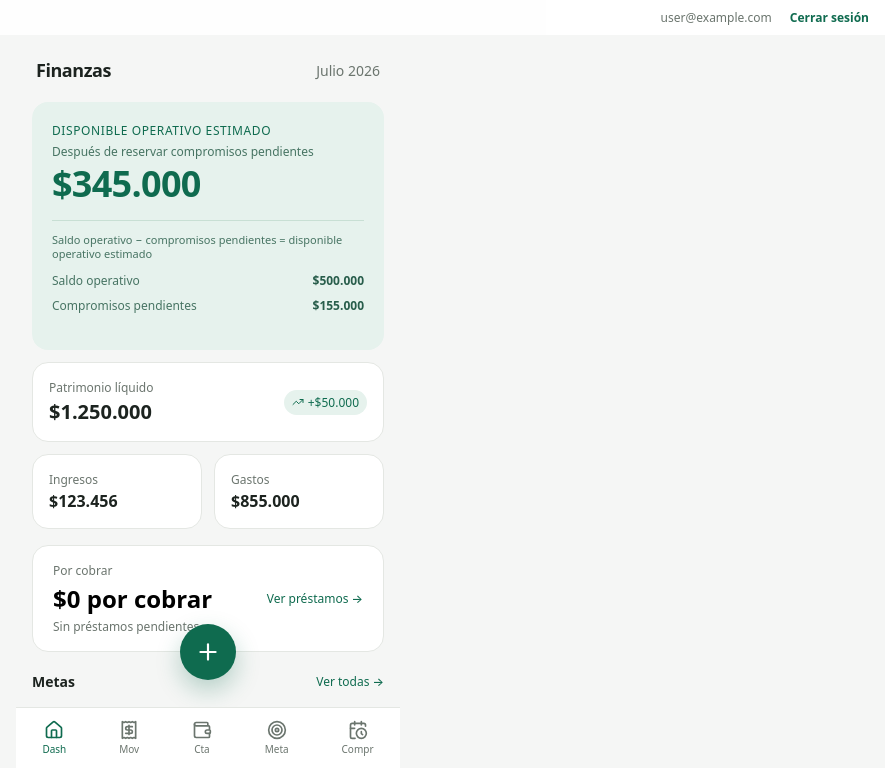
Scenario: QuickEntryPage › opens from the dashboard FAB
Step 1. Click the button named "Agregar movimiento" → x=208, y=652, box x1=180 y1=624 x2=236 y2=680
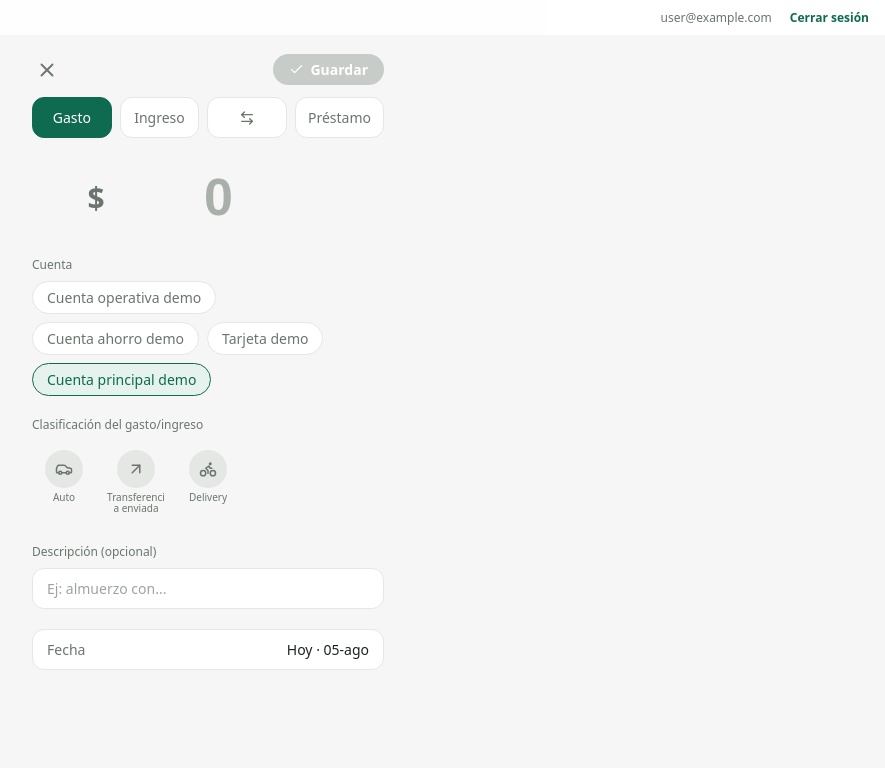
Expected: the button "Guardar" is shown, x1=274 y1=54 x2=384 y2=85
Expected: the field named "Monto" is shown, x1=109 y1=166 x2=329 y2=228
